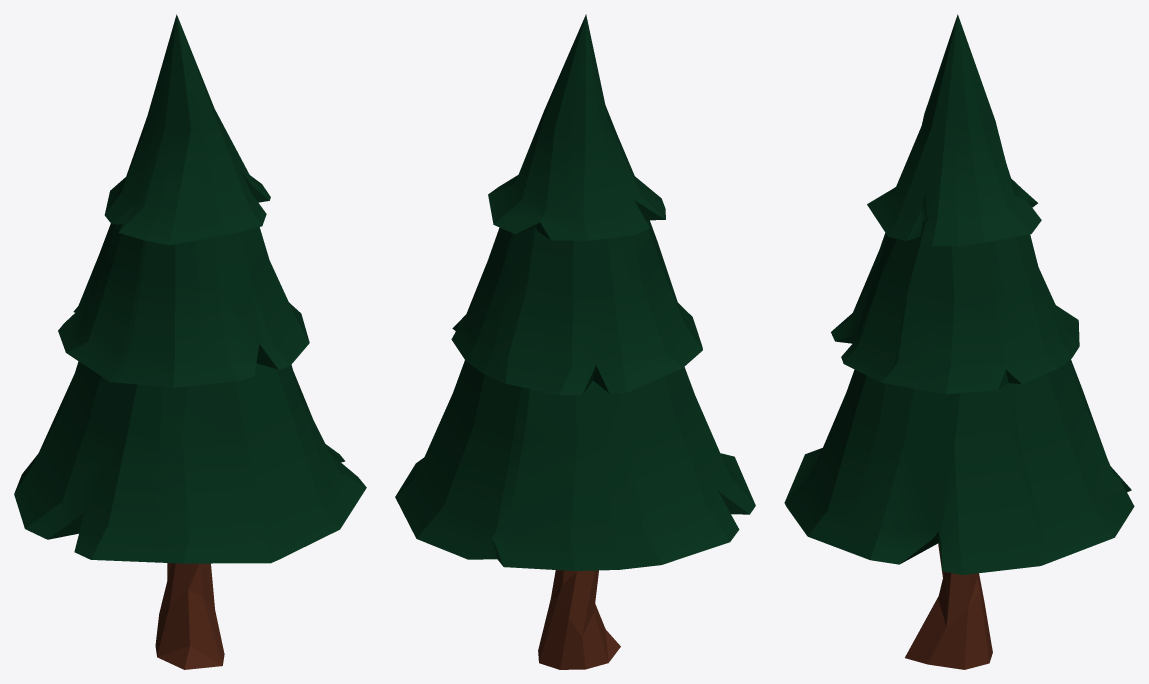
The model's file is Tree_5_Medium_1.fbx.
3 views of the same model, side by side, from view 1: azimuth 30°, elevation 25°; view 2: azimuth 150°, elevation 25°; view 3: azimuth 270°, elevation 25° (orthographic).
Visible parts, largest first — view 1: Tree_5_Medium_1; view 2: Tree_5_Medium_1; view 3: Tree_5_Medium_1.
Boxes of the visible parts, left/top/right/bottom form: Tree_5_Medium_1: left=14, top=14, right=366, bottom=669; Tree_5_Medium_1: left=395, top=14, right=755, bottom=669; Tree_5_Medium_1: left=784, top=14, right=1134, bottom=669.
Bounding box in the file's own units: 109 × 213 × 107.
